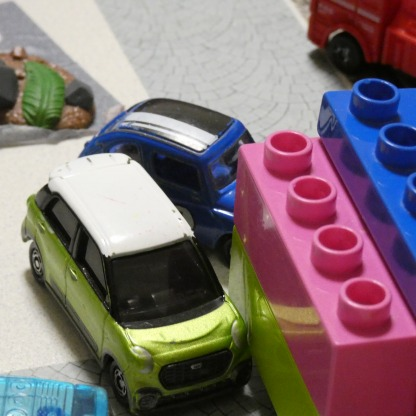car: (22, 154, 256, 408), (73, 93, 264, 264), (304, 0, 416, 79)
